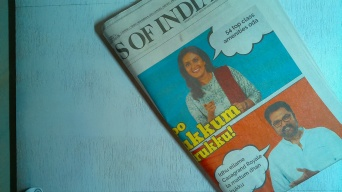p: (91, 2, 342, 188)
